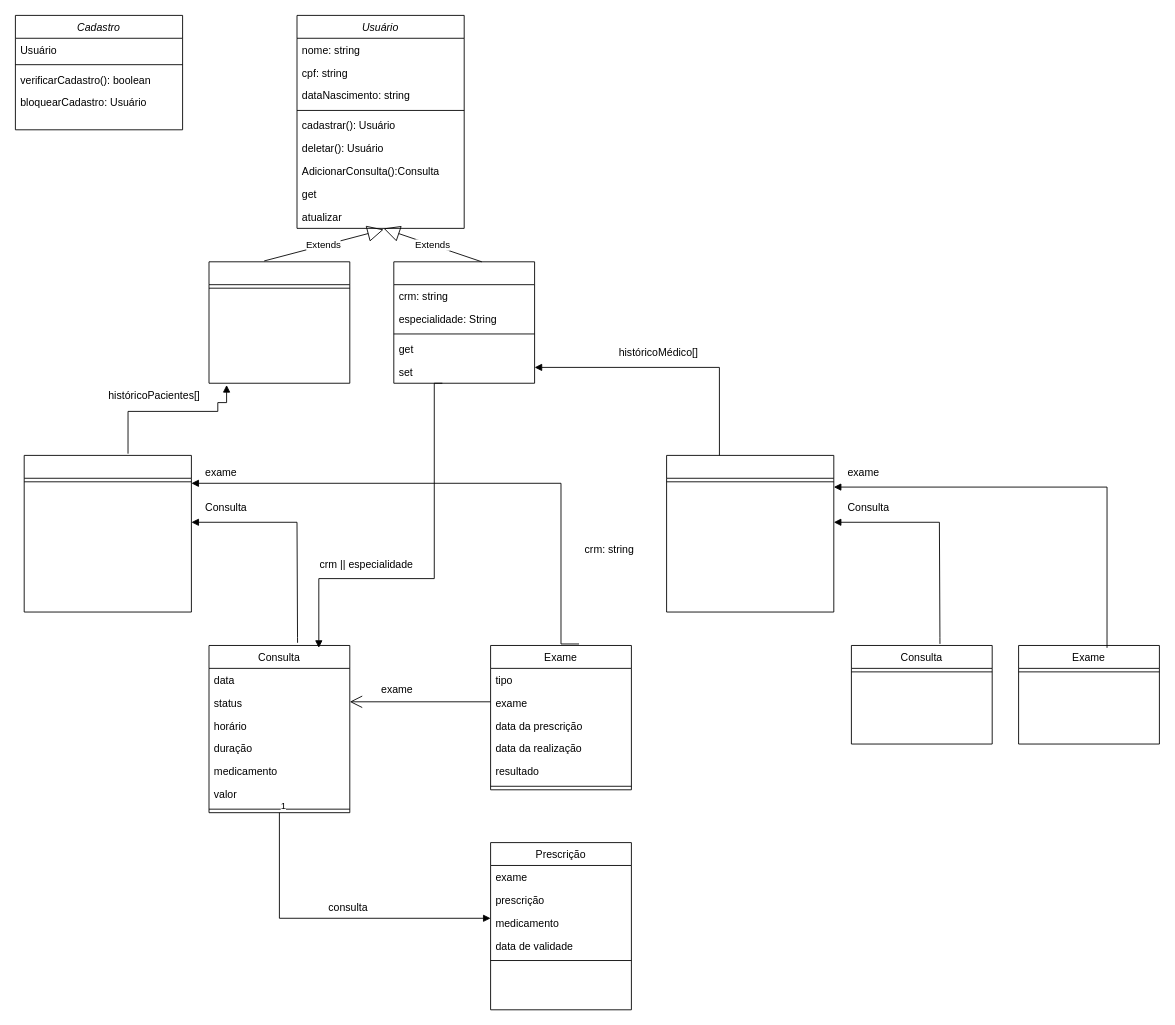
This 1175x1025 diagram has some shape labels left out. Each missing label, with the box of its shape:
HistóricoMéd: (666, 455, 834, 612)
HistóricoPacientes: (23, 455, 191, 612)
Médico: (393, 261, 535, 383)
Paciente: (208, 261, 350, 383)
